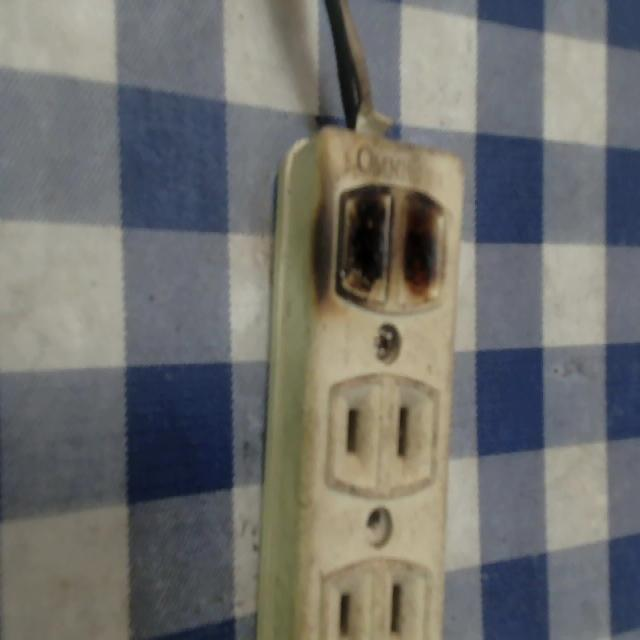-: (304, 166, 454, 322)
